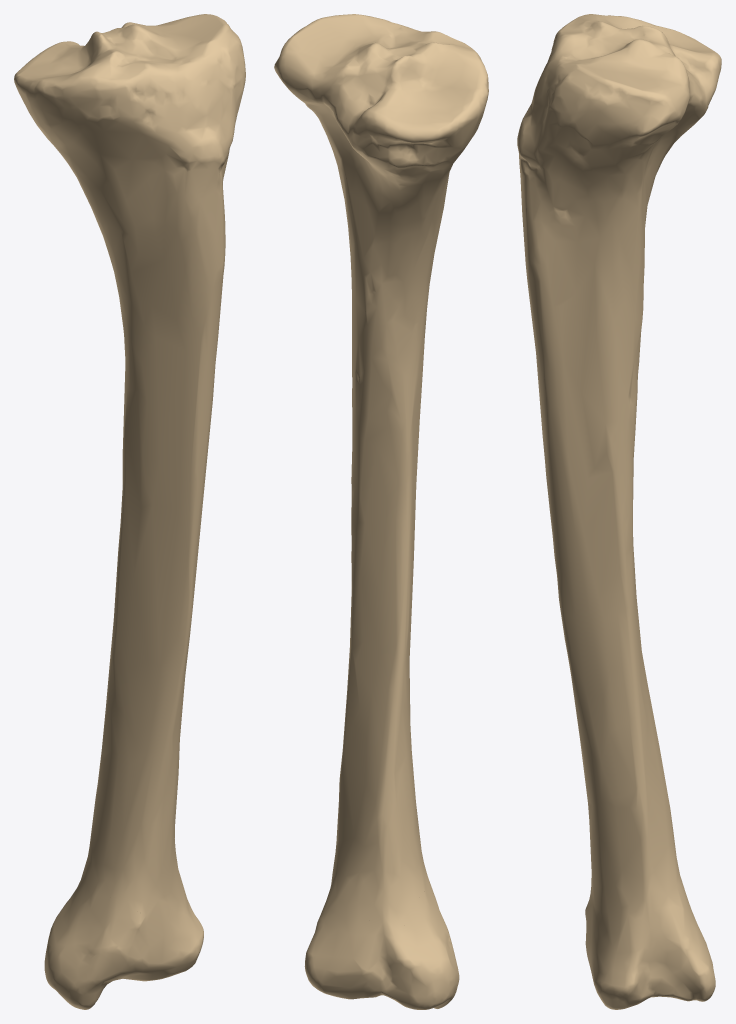
Rendered from explorar-tibia.glb.
3 views of the same model, side by side, from view 1: azimuth 30°, elevation 25°; view 2: azimuth 150°, elevation 25°; view 3: azimuth 270°, elevation 25° (orthographic). The views are drawn at different scales.
Visible parts, largest first — view 1: tibia_left__cuerpo, tibia_left__condilos, tibia_left__base, tibia_left__maleolo; view 2: tibia_left__cuerpo, tibia_left__condilos, tibia_left__base, tibia_left__maleolo; view 3: tibia_left__cuerpo, tibia_left__condilos, tibia_left__base.
Part boxes in pixels (box(x1,y1,x2,y2)): tibia_left__cuerpo: box(88, 177, 225, 872); tibia_left__condilos: box(14, 14, 245, 199); tibia_left__base: box(62, 150, 228, 981); tibia_left__maleolo: box(44, 881, 143, 1009); tibia_left__cuerpo: box(336, 168, 447, 886); tibia_left__condilos: box(274, 14, 488, 186); tibia_left__base: box(304, 127, 452, 999); tibia_left__maleolo: box(359, 874, 459, 1009); tibia_left__cuerpo: box(521, 177, 679, 894); tibia_left__condilos: box(517, 14, 721, 189); tibia_left__base: box(519, 144, 715, 1009).
Size of the model in its own units: 0.076 by 0.3466 by 0.066.
